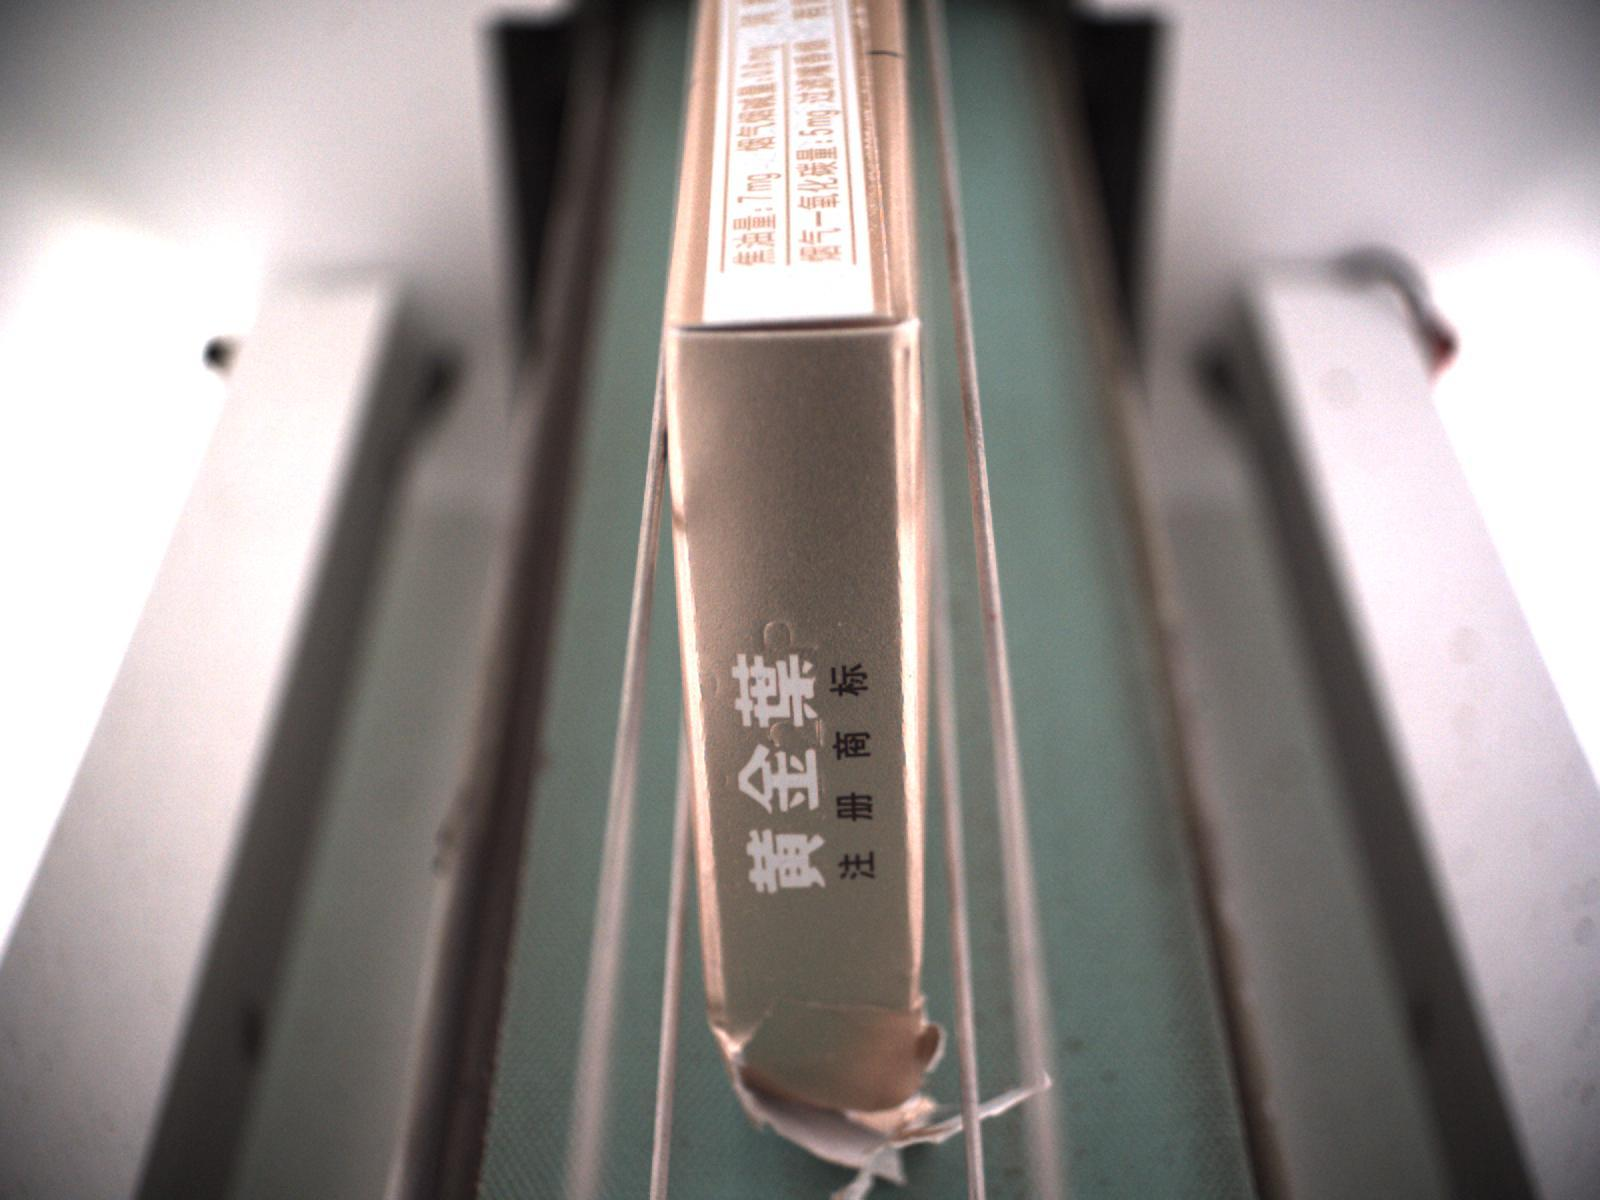bottomUpwarp_upper_3: (669, 308, 913, 342)
skewed_upper_3: (852, 1, 925, 338)
